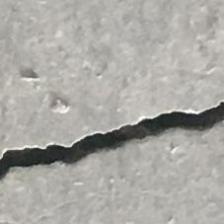Crack: (0, 80, 224, 217)
